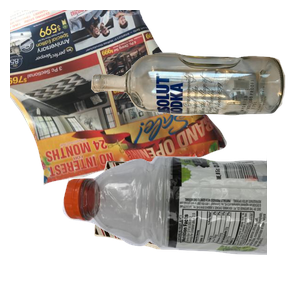glass: (88, 50, 300, 158)
paper: (10, 10, 230, 188)
plastic: (60, 152, 300, 300)
trash: (92, 158, 277, 300)
